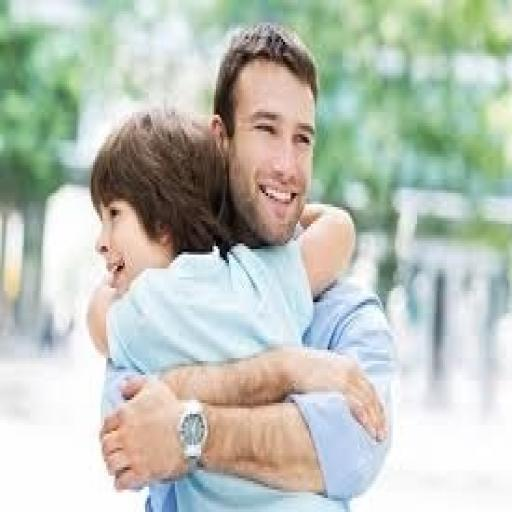hugging: (88, 22, 398, 510)
